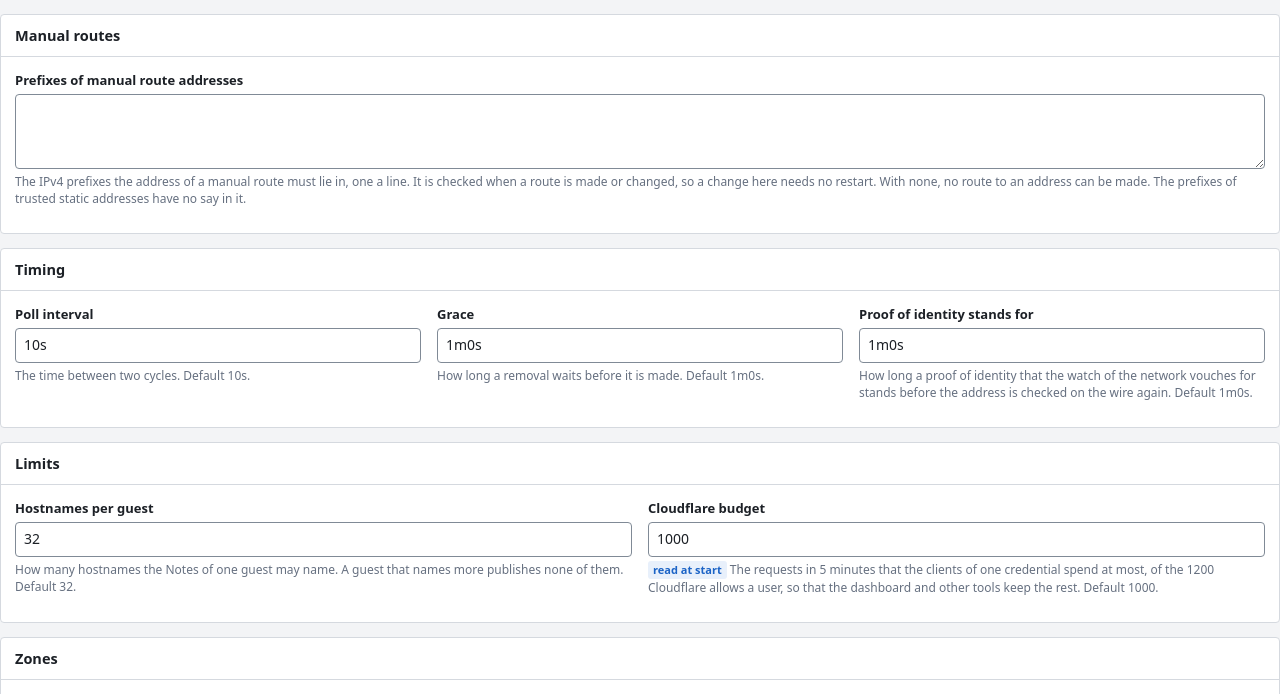
Test: a save › what the daemon refuses is said at the field, in its words, whatever the page thought
(page scrolled)
Replace the text in the field labelled "Poll interval" with "1s" at [218, 345], box [15, 328, 421, 363]
(page scrolled)
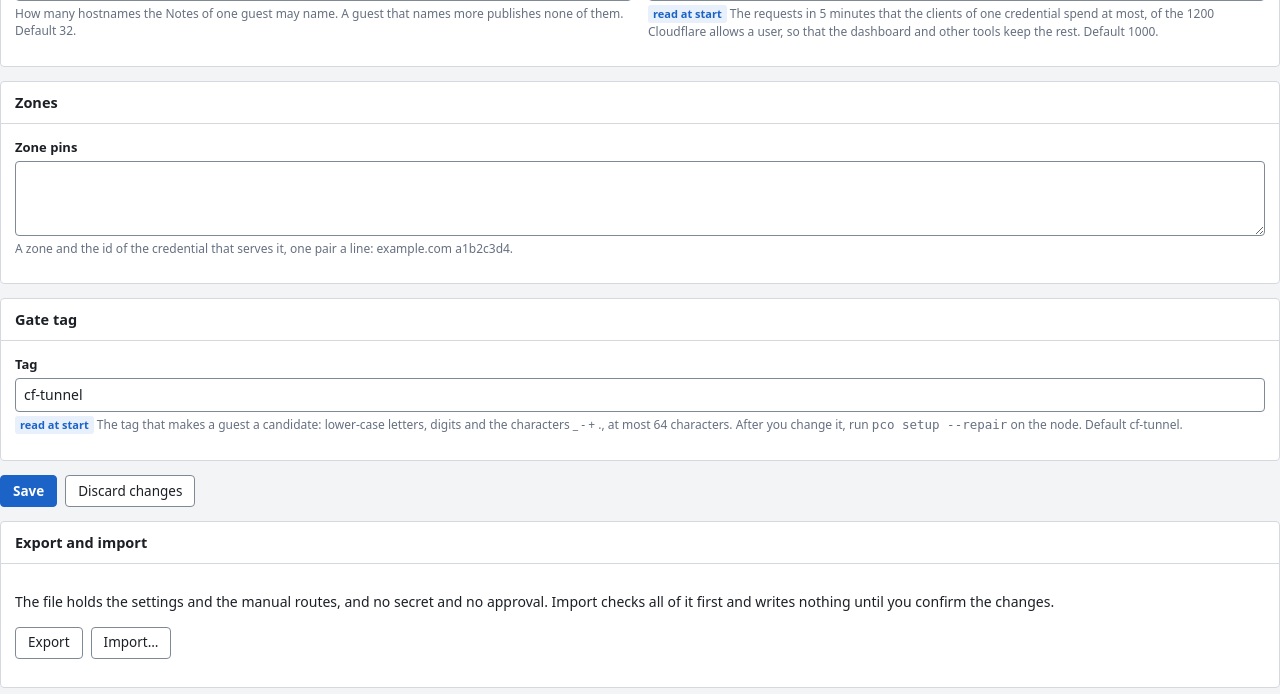
Click the button "Save".
click(29, 491)  # box [0, 475, 57, 507]
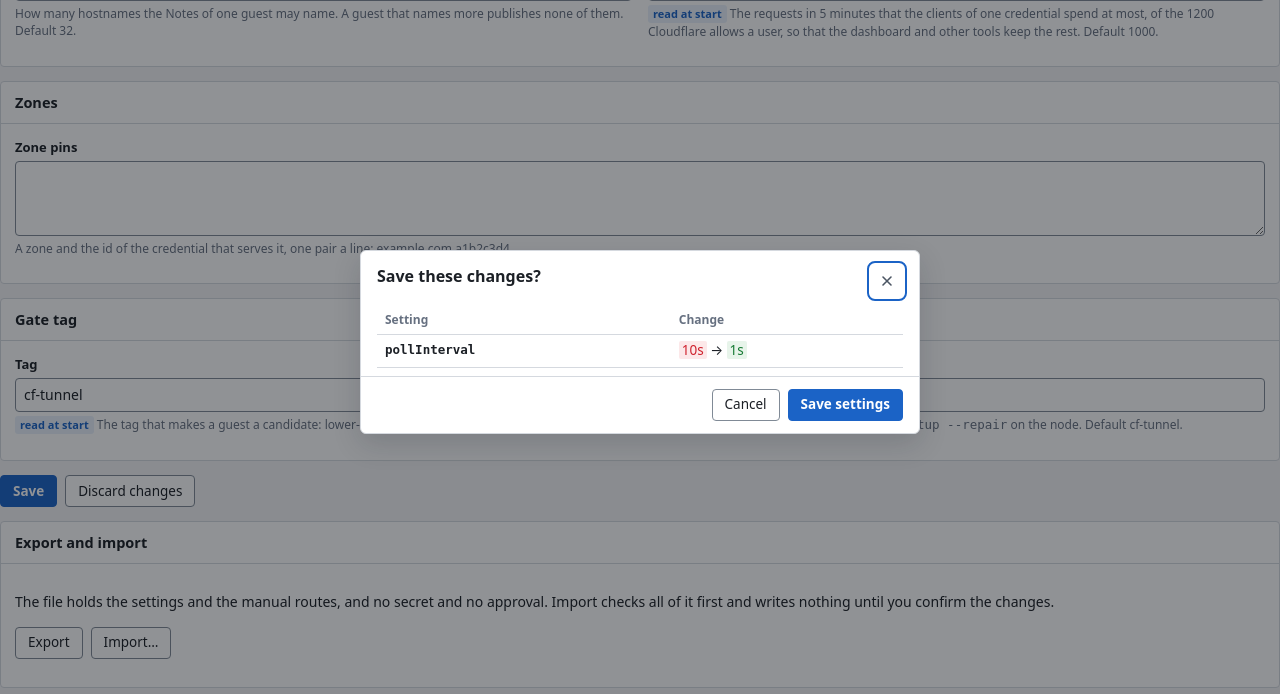
Click the button "Save settings".
click(845, 405)  # box [788, 389, 903, 421]
(page scrolled)
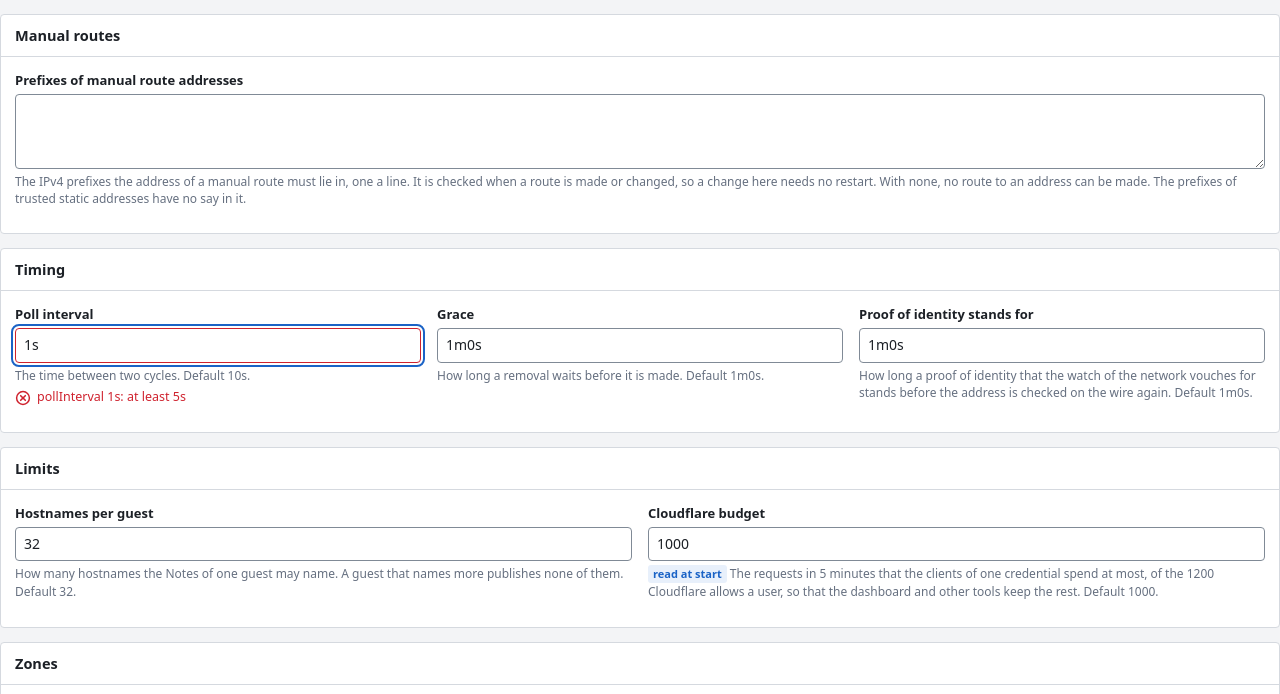
Check: the text "pollInterval 1s: at least 5s" is shown, box [37, 388, 186, 405]
Replace the text in the field labelled "Poll interval" with "12s" at [218, 345], box [15, 328, 421, 363]
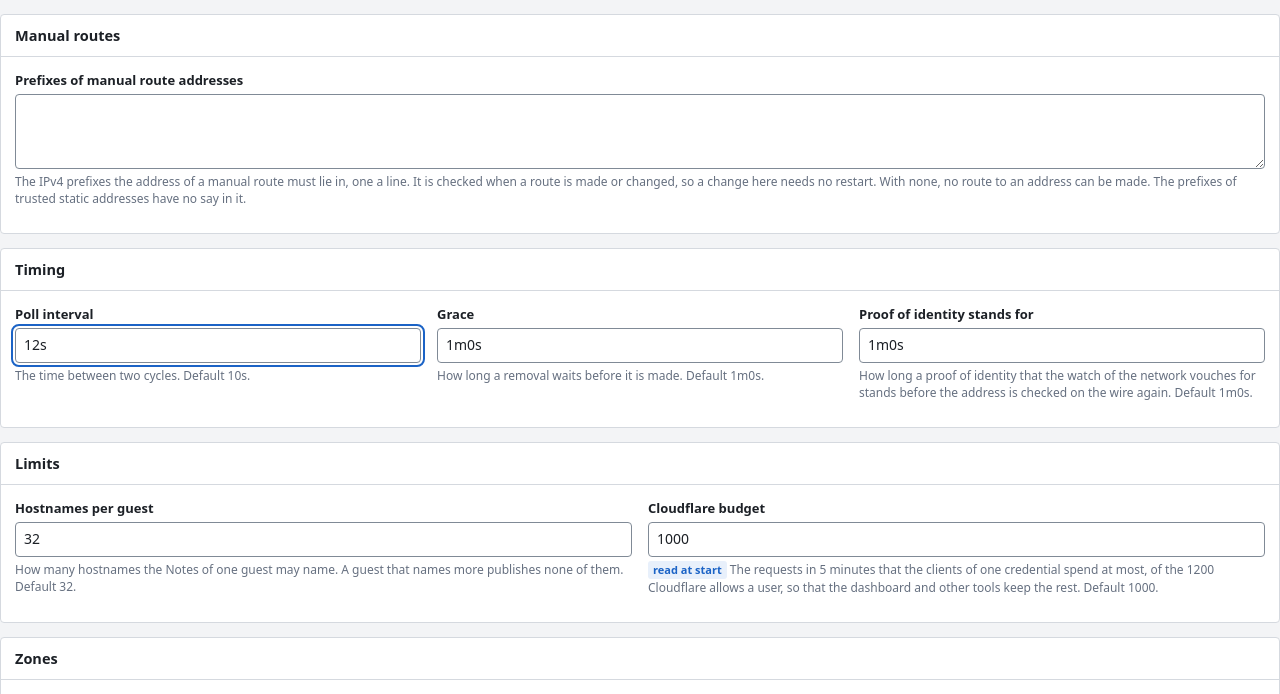
Check: the text "pollInterval 1s: at least 5s" is gone
